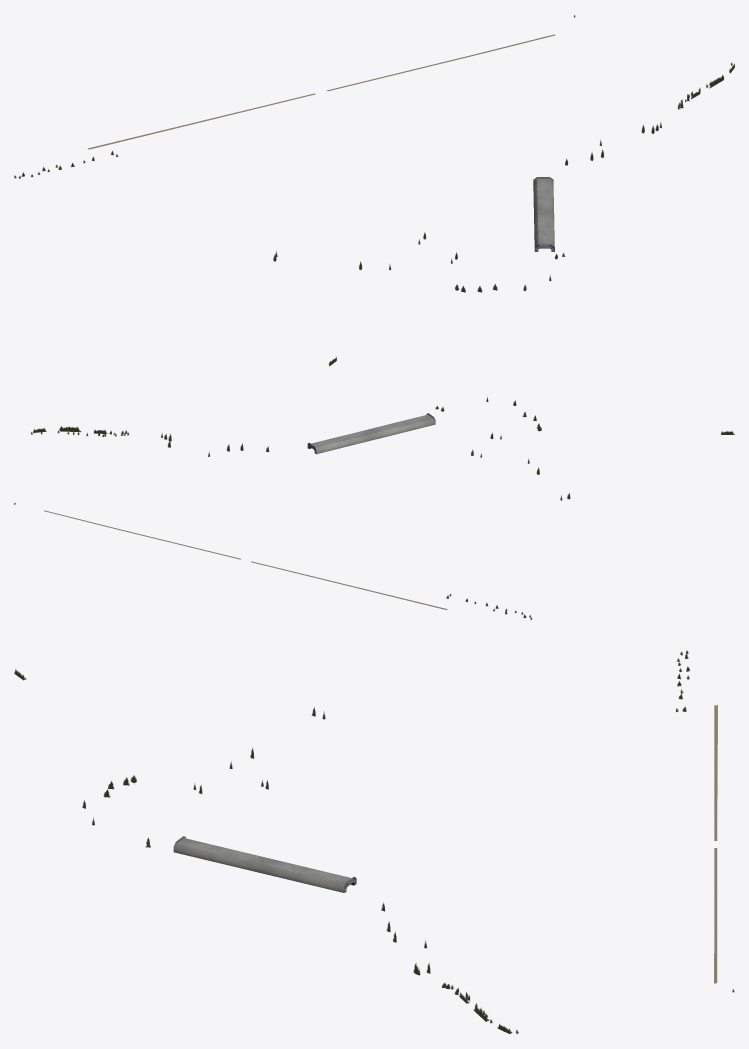
3 views of the same model, one above another, from view 1: azimuth 30°, elevation 25°; view 2: azimuth 150°, elevation 25°; view 3: azimuth 270°, elevation 25° (orthographic). The views are drawn at different scales.
Visible parts, largest first — view 1: highspeedring2_2; view 2: highspeedring2_2; view 3: highspeedring2_2.
Boxes of the visible parts, left/top/right/bottom form: highspeedring2_2: left=14, top=15, right=734, bottom=366; highspeedring2_2: left=14, top=397, right=734, bottom=619; highspeedring2_2: left=14, top=650, right=734, bottom=1033.
Bounding box in the file's own units: 1100 × 34.17 × 863.
3 materials, 3 textured.
